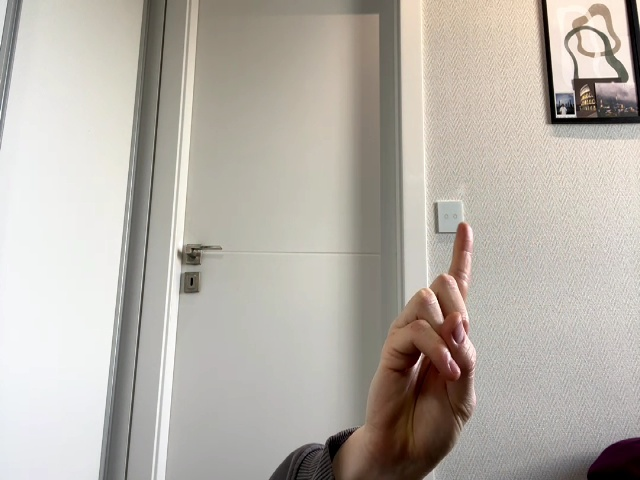Z: (365, 222, 476, 468)
